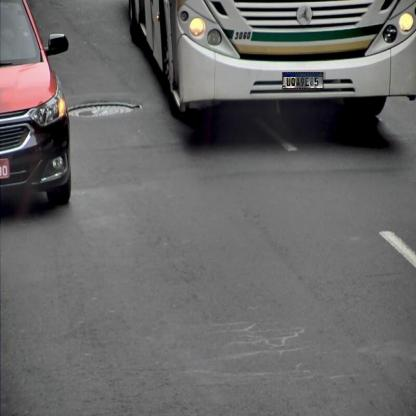PlacaM: (282, 72, 324, 89)
